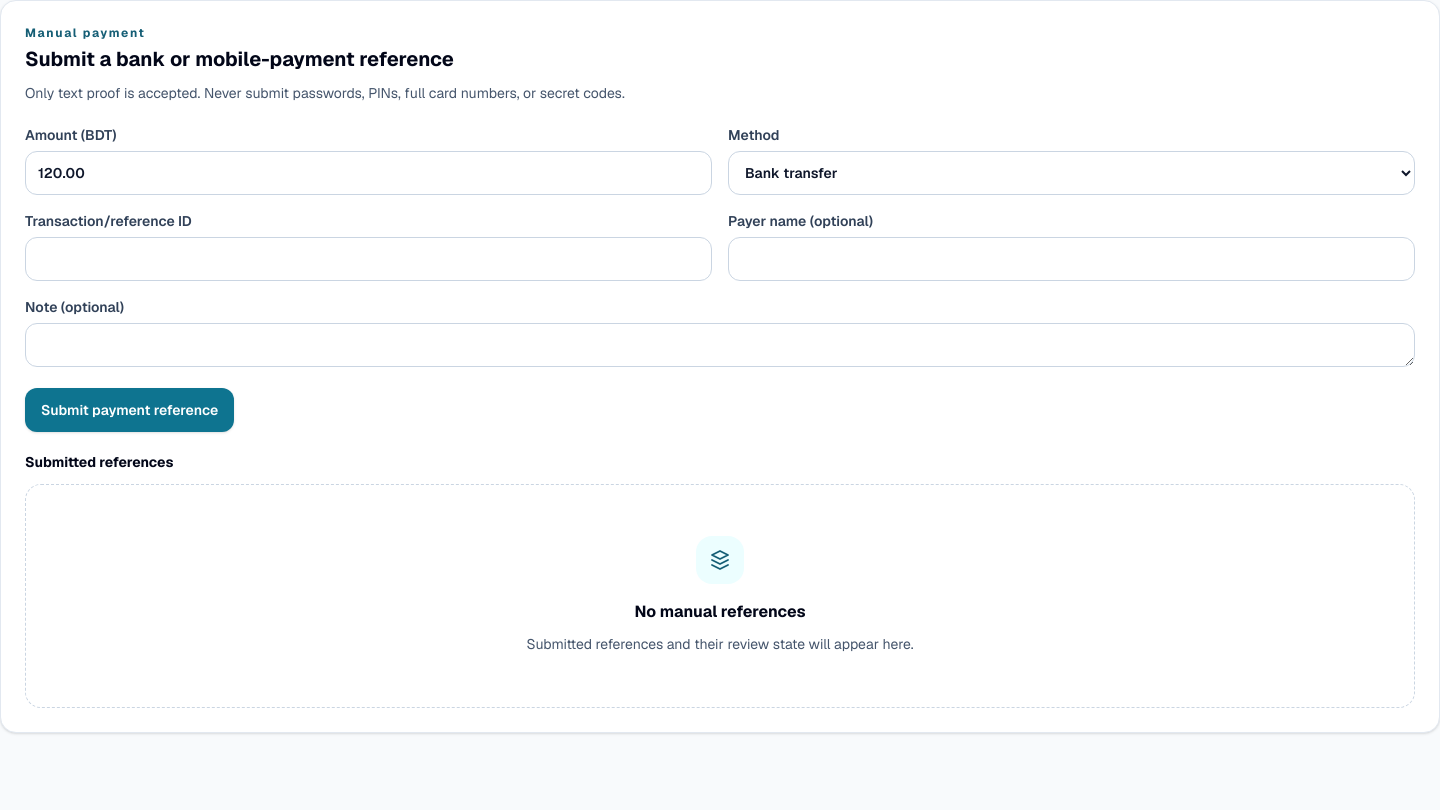
Test: manual payment interfaces › prefills a decimal customer amount and submits proof in exact minor units
The image size is (1440, 810).
Check: the heading "Submit a bank or mobile-payment reference" is shown, box [25, 46, 454, 72]
Replace the text in the field labelled "Amount (BDT)" with "119.95" at x=368, y=173, box [25, 151, 712, 195]
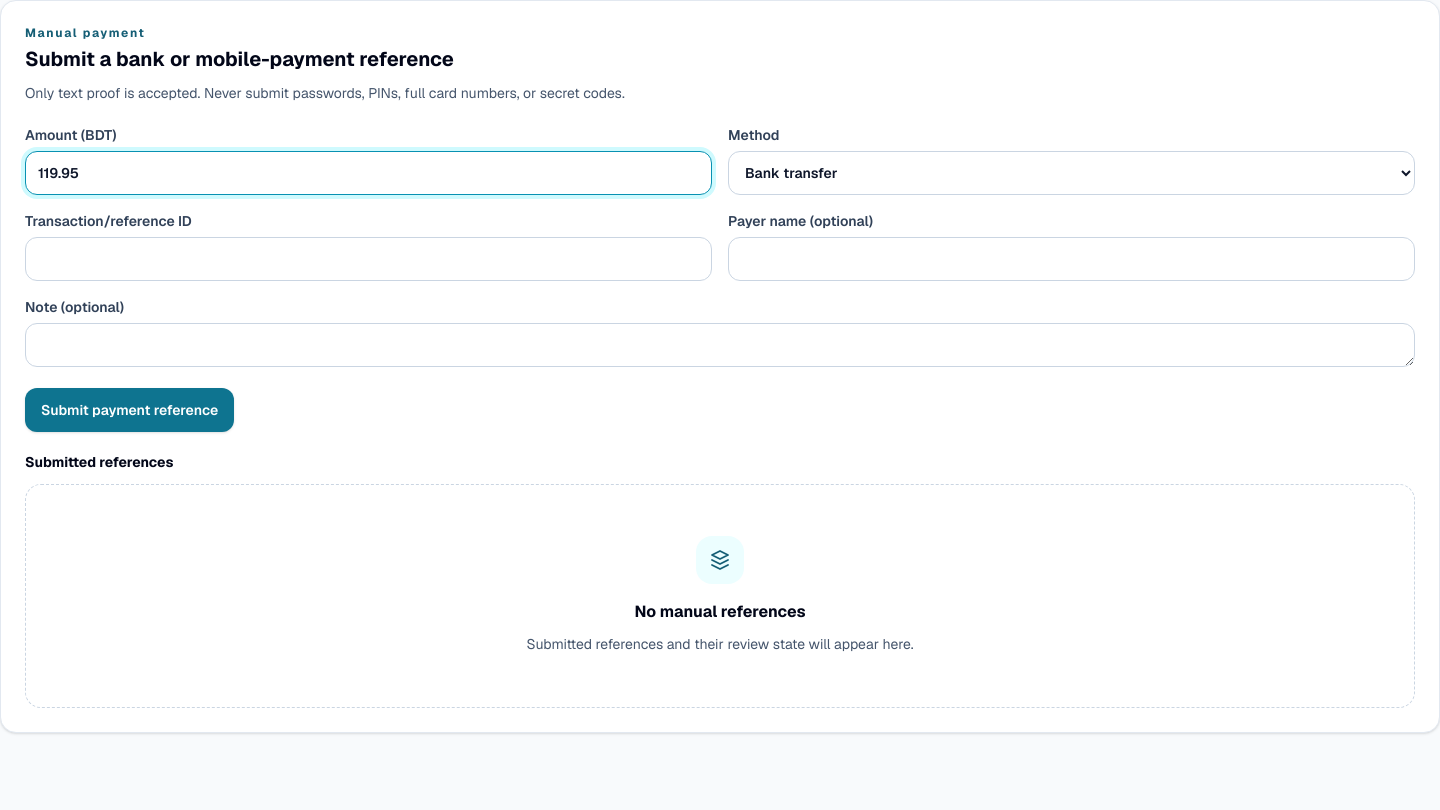
Type "NEW-UI-REFERENCE" into the field labelled "Transaction/reference ID".
click(368, 259); type("NEW-UI-REFERENCE")  # box [25, 237, 712, 281]
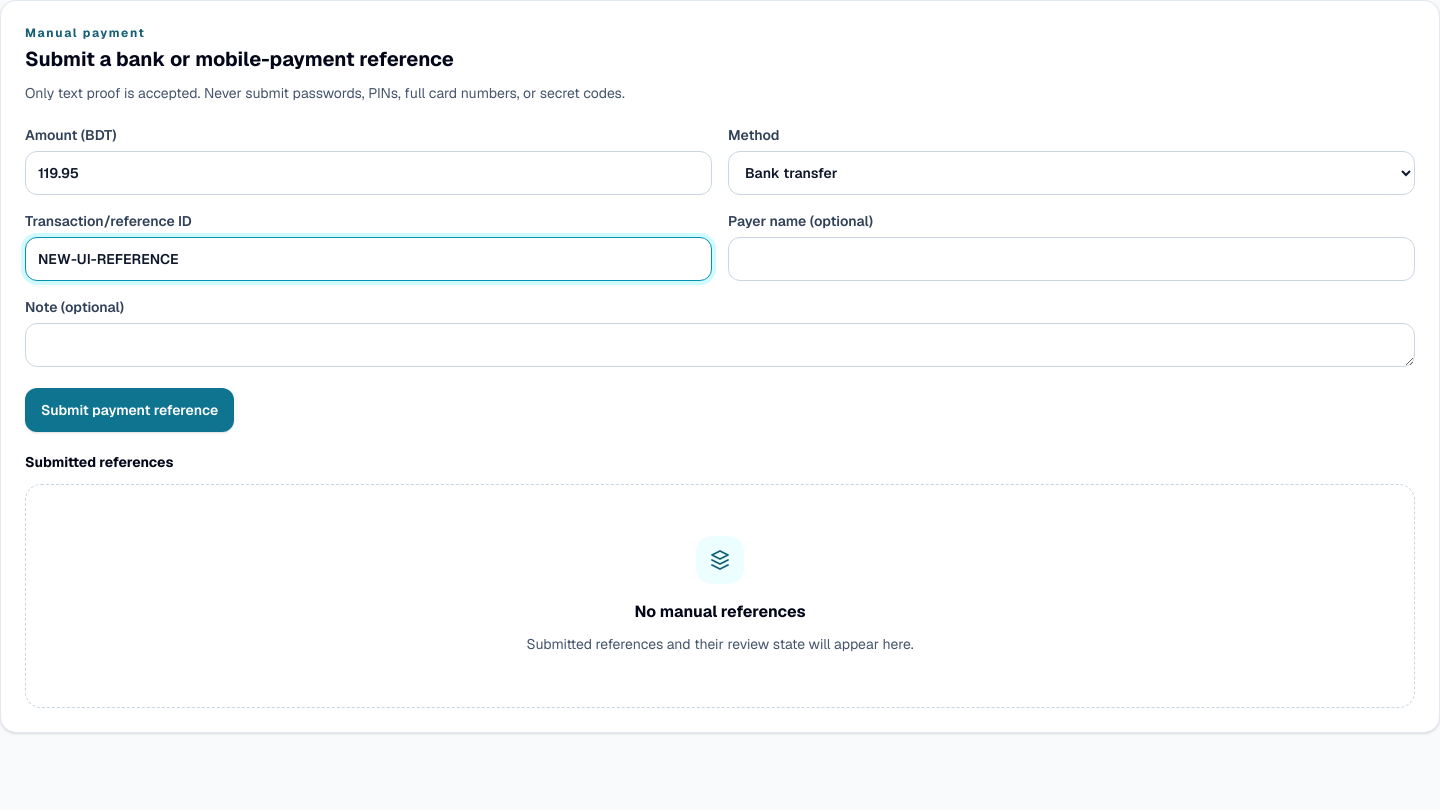
Type "Manual Payer" into the field labelled "Payer name (optional)".
click(1072, 259); type("Manual Payer")  # box [728, 237, 1415, 281]
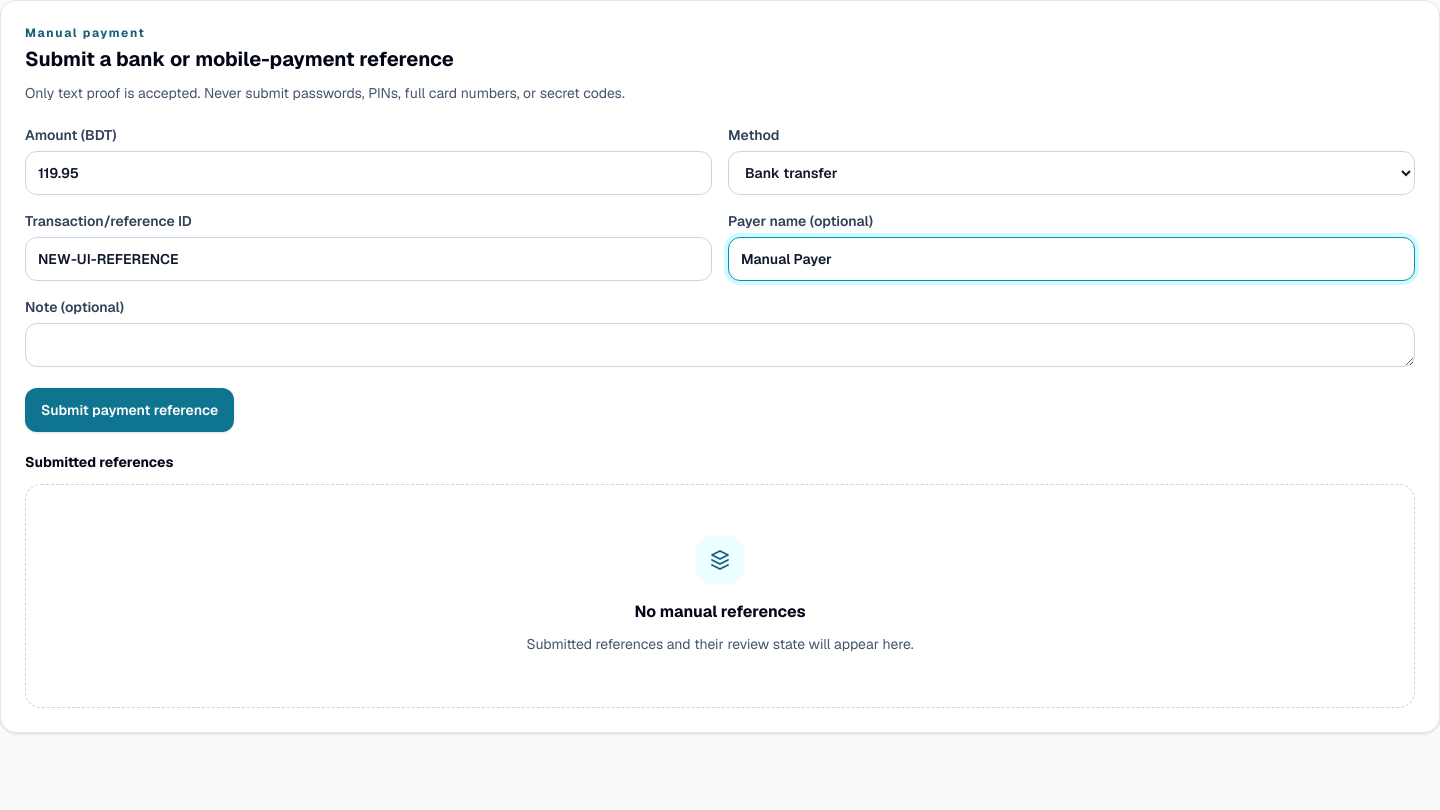
Click the button "Submit payment reference".
click(130, 410)  # box [25, 388, 234, 432]
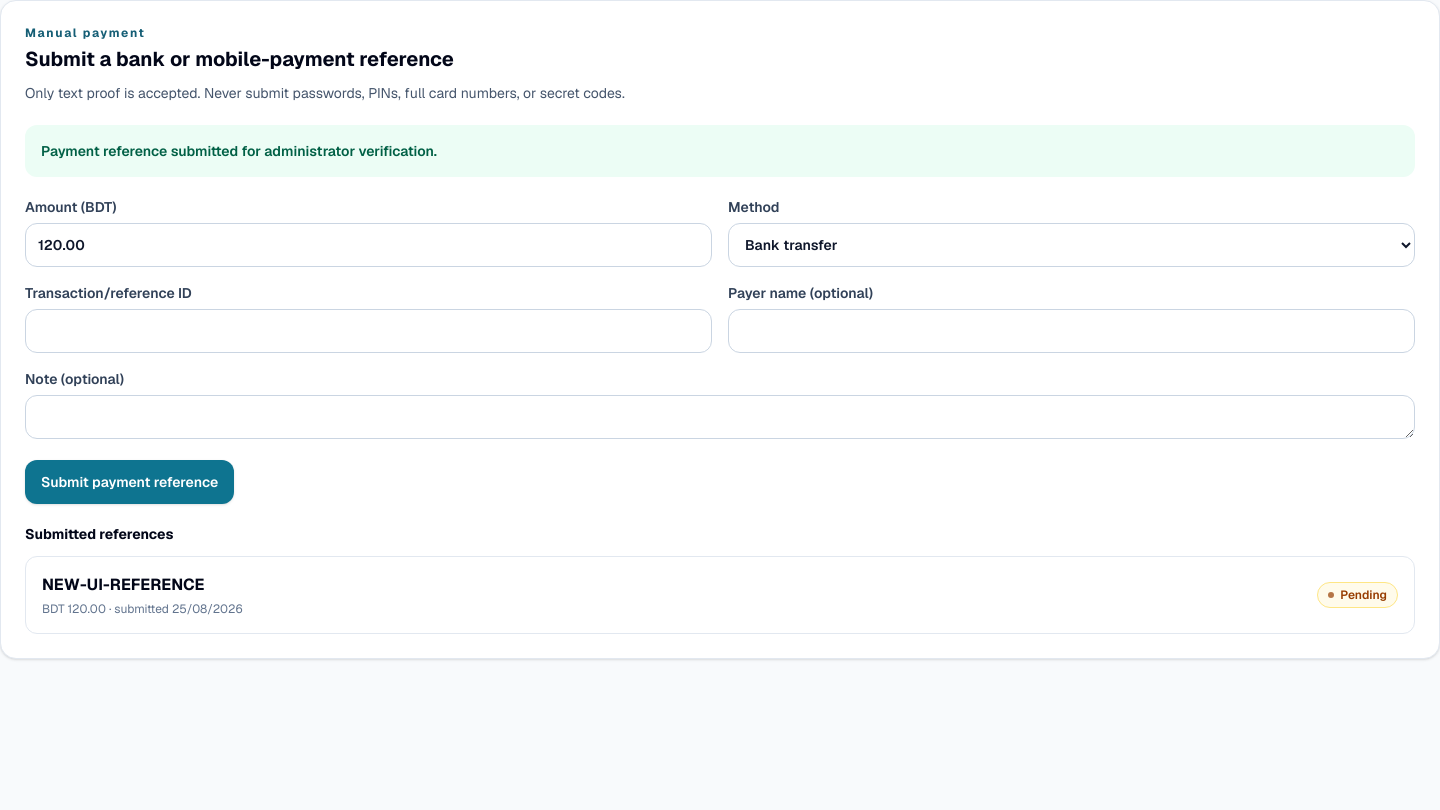
Check: the text "Payment reference submitted for administrator verification." is shown, box [25, 125, 1415, 177]
Check: the text "NEW-UI-REFERENCE" is shown, box [42, 574, 204, 595]
